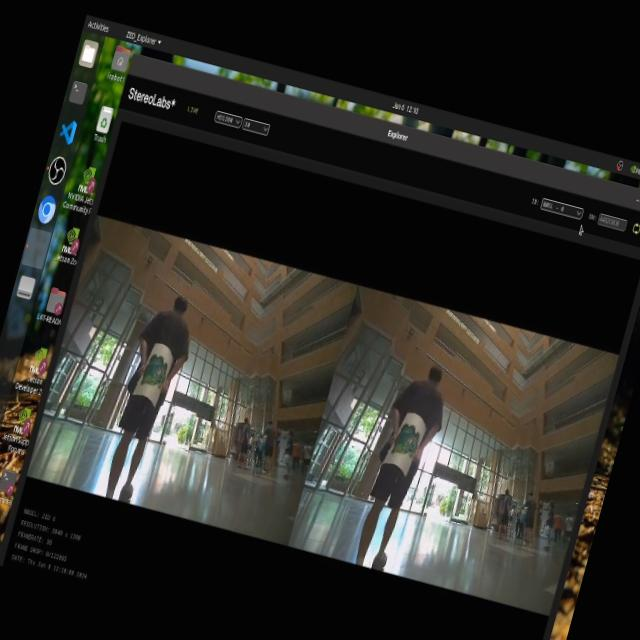green: (385, 420, 425, 470), (135, 348, 172, 393)
